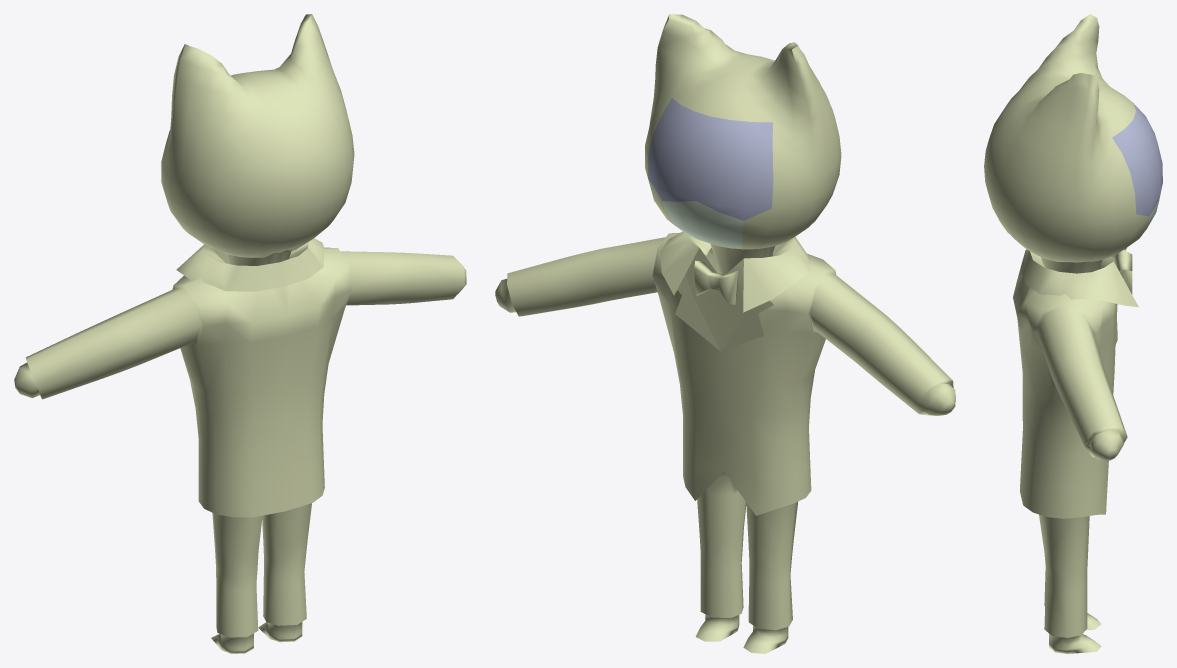
File: cat_void.fbx
3 renders of one model, left to right at view 1: azimuth 30°, elevation 25°; view 2: azimuth 150°, elevation 25°; view 3: azimuth 270°, elevation 25°, orthographic. The views are drawn at different scales.
Visible parts, largest first — view 1: cat_void; view 2: cat_void; view 3: cat_void.
Boxes of the visible parts, bbox=[...] form: cat_void: bbox=[14, 14, 466, 653]; cat_void: bbox=[495, 14, 955, 653]; cat_void: bbox=[984, 14, 1162, 653].
Size of the model in its own units: 2.37 by 3.03 by 0.8322.
